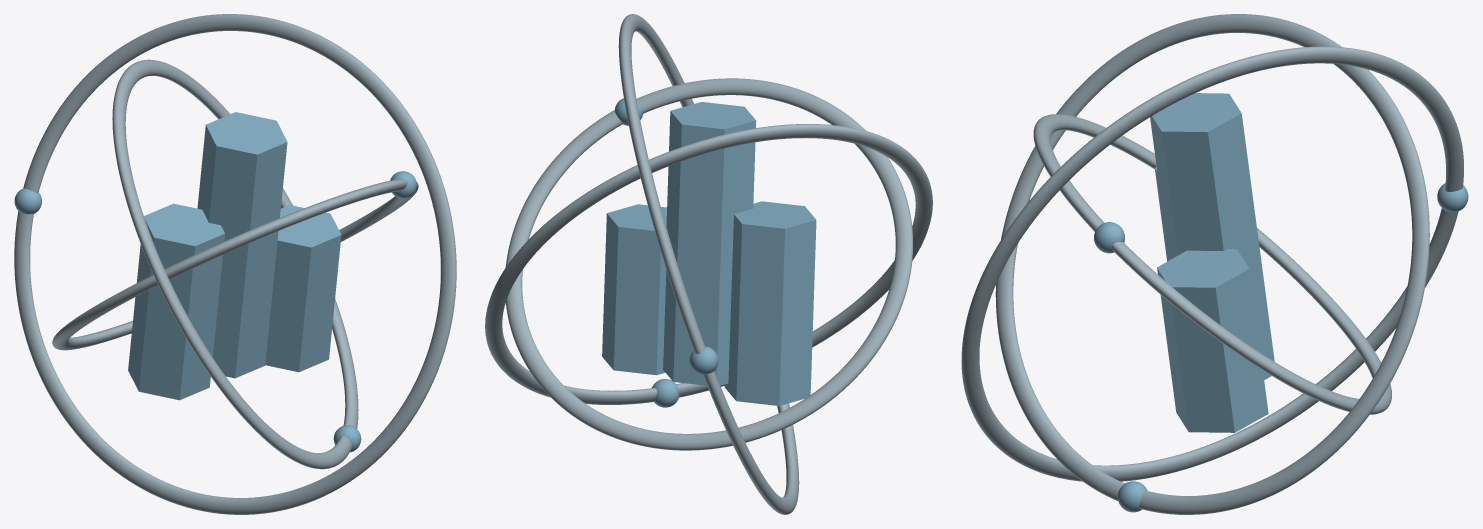
The picture shows the model from 3 angles, left to right: view 1: azimuth 30°, elevation 25°; view 2: azimuth 150°, elevation 25°; view 3: azimuth 270°, elevation 25°; orthographic projection. The views are drawn at different scales.
Size of the model in its own units: 0.9343 by 1.11 by 1.05.
